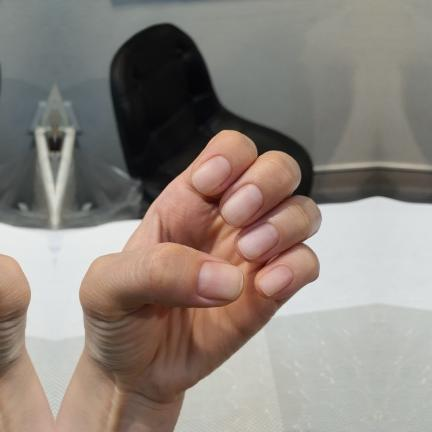Nail: (194, 261, 244, 301), (220, 184, 263, 227), (191, 156, 231, 194), (237, 224, 278, 260), (258, 266, 293, 297)
